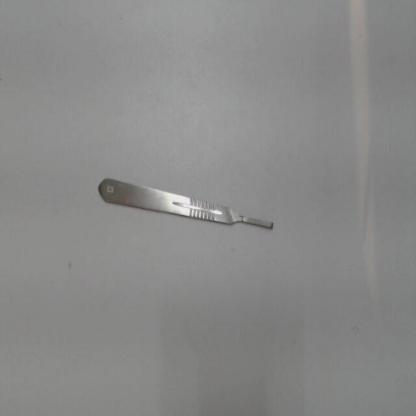No.4 BP Handle: (98, 168, 284, 248)
